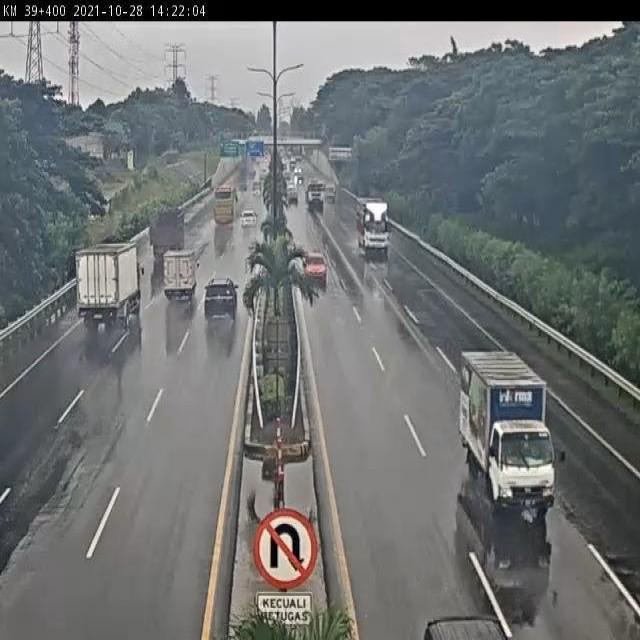big bus: (211, 182, 240, 226)
car: (205, 279, 238, 321), (300, 244, 327, 279), (240, 209, 258, 231)
truck-l-: (354, 193, 389, 252)
truck-m-: (77, 241, 142, 327), (147, 205, 187, 259)
truck-s-: (456, 348, 558, 512), (159, 248, 198, 304)
